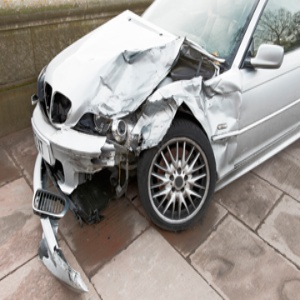rear_windshield_glass: (82, 18, 263, 157)
